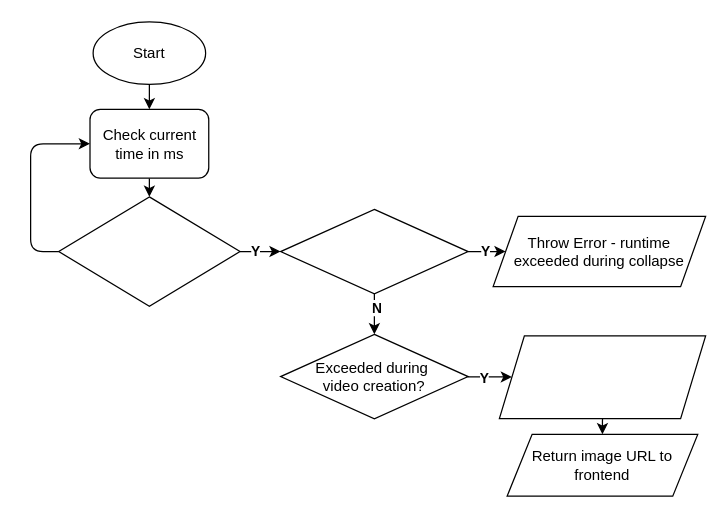
The diagram is 728 pixels wide and 519 high, and some of its shapes have lost their labels. The shapes that lost their labels are listed below. From the top down, each one's centre as x and y in pixels, then its label:
At pixel 149 251: "Current time - start time > 60,000ms?".
At pixel 373 251: "Exceeded during collapse ?".
At pixel 602 377: "Throw Error - runtime exceeded during video creation".
